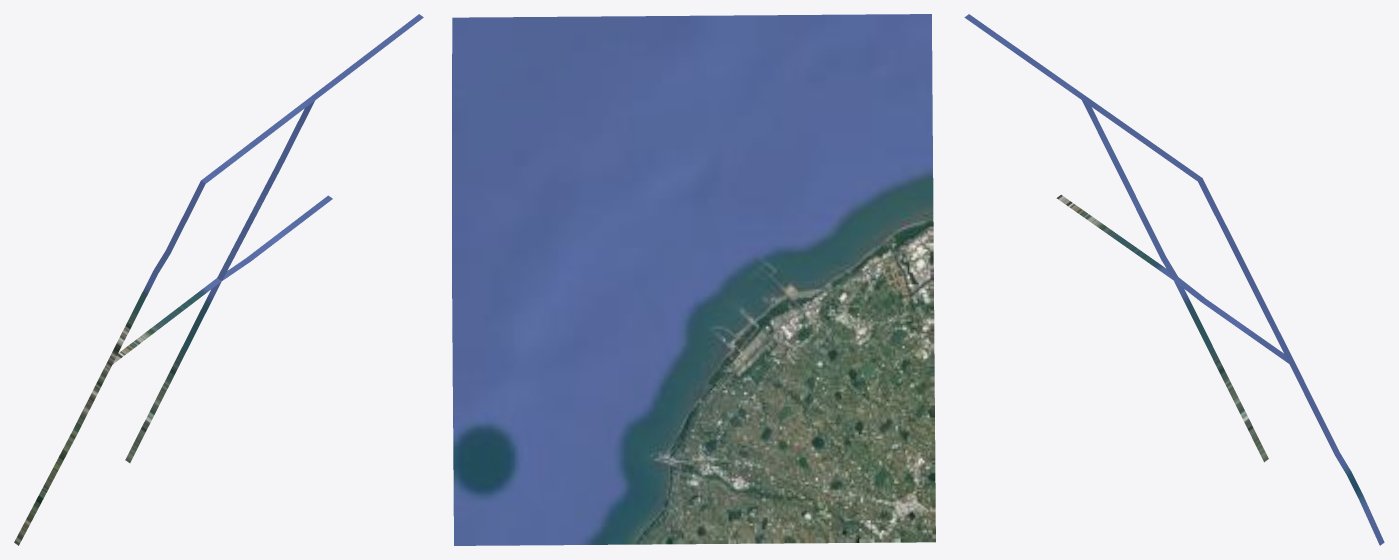
3 views of the same model, side by side, from view 1: azimuth 30°, elevation 25°; view 2: azimuth 150°, elevation 25°; view 3: azimuth 270°, elevation 25° (orthographic). The views are drawn at different scales.
Bounding box in the file's own units: 19716 × 17862 × 16512.
1 material, 1 textured.
